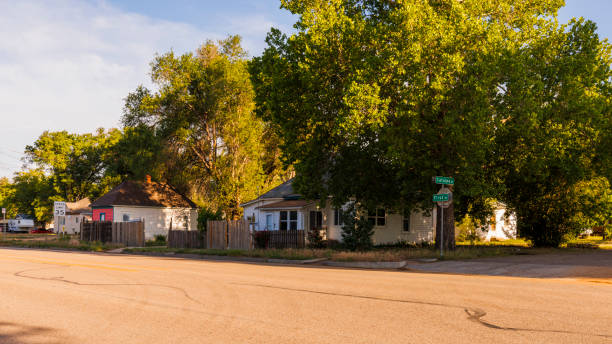SpeedLimitSign: (51, 199, 65, 216)
